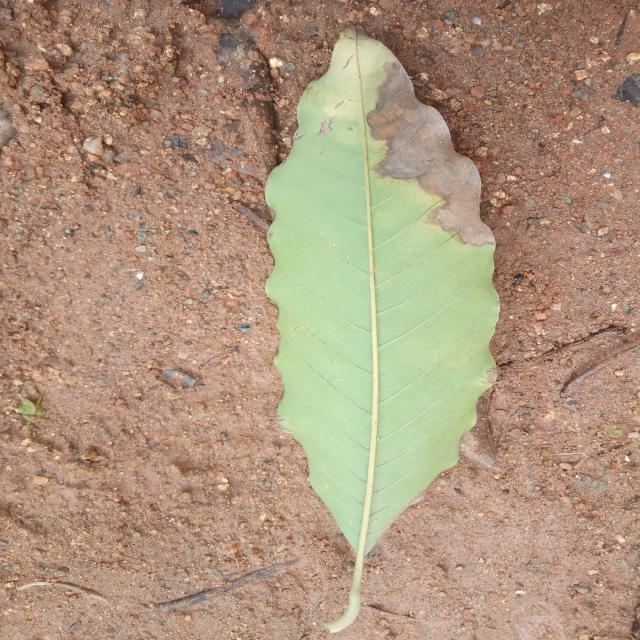coffee leaf rust: (267, 28, 498, 631)
